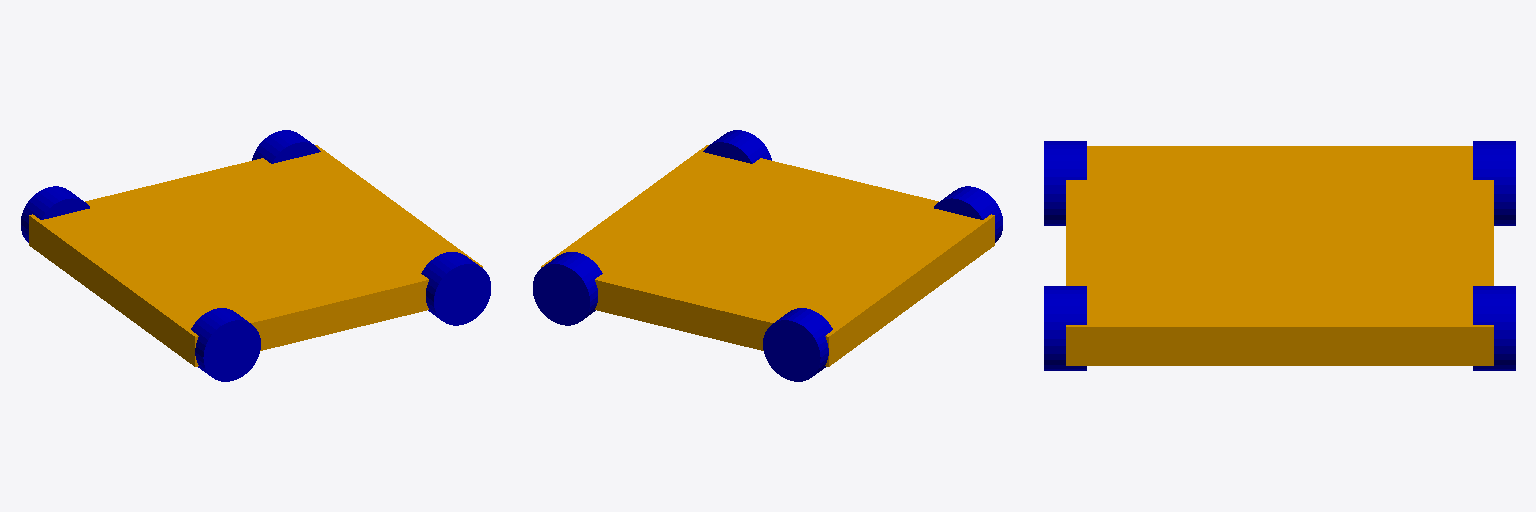
URDF robot description (basic_robot):
<?xml version="1.0"?>
<robot name="basic_robot">
<!-- For the color  -->
  <material name ="blue">
    <color rgba=" 0 0 0.8 1"/>
  </material>
<!-- Looks like it needed to be named base_link -->
  <link name="base_link">
    <visual>
    <!-- take out the xyz here -->
    <!-- <origin rpy=" 0 0 0" xyz="0 0 0.1"/> -->
    <origin rpy=" 0 0 0" xyz="0 0 0.1"/>
      <geometry>
        <!-- l x w x h -->
         <box size="1.0 1.0 0.1"/>
      </geometry>
    </visual>
  </link>

  <link name="right_front_wheel">
    <visual>
    <!-- rpy looks like orientation of the object -->
      <!-- taking out the location below -->
      <!-- <origin rpy=" 1.57075 0 0" xyz="0 0 0.1 "/> -->
      <origin rpy=" 1.57075 0 0"/>
      <geometry>
        <cylinder length="0.1" radius="0.1"/>
      </geometry>
      <material name="blue"/>
    </visual>
  </link>

  <joint name="right_front_wheel_joint" type="continuous">
    <parent link="base_link" />
    <child link="right_front_wheel" />
    <!-- axis on which it will move -->
    <axis xyz="0 1 0"/>
    <!-- may need to replace the xyz here -->
    <!-- <origin rpy="0 0 0" xyz="0.40 0.5 0.0"/> -->
    <origin rpy="0 0 0 " xyz="0.40 0.5 0.1 "/>"
  </joint>

   <link name="left_front_wheel">
    <visual>
    <!-- rpy looks like orientation -->
    <!-- taking out the xyz here -->
      <origin rpy=" 1.57075 0 0"/>
      <geometry>
        <cylinder length="0.1" radius="0.1"/>
      </geometry>
      <material name="blue"/>
    </visual>
  </link>

  <joint name="left_front_wheel_joint" type="continuous">
    <parent link="base_link" />
    <child link="left_front_wheel" />
    <!-- axis on which it will move -->
    <axis xyz="0 1 0"/>
    <!-- adding the xyz from the wheel  back here  -->
    <!-- <origin rpy="0 0 0" xyz="0.4 -0.5 0.0"/> -->
    <origin rpy="0 0 0" xyz="0.4 -0.5 0.1"/>
  </joint>


  <link name="right_back_wheel">
    <visual>
    <!-- rpy looks like orientation -->
    <!-- take out the xyz here  -->
      <origin rpy=" 1.57075 0 0" />
      <geometry>
        <cylinder length="0.1" radius="0.1"/>
      </geometry>
      <material name="blue"/>
    </visual>
  </link>

  <joint name="right_back_wheel_joint" type="continuous">
    <parent link="base_link" />
    <child link="right_back_wheel" />
    <!-- axis on which it will move -->
    <axis xyz="0 1 0"/>
    <!-- add the xyz from wheel back here -->
    <!-- <origin rpy="0 0 0" xyz="-0.4 0.5 0.0"/> -->
    <origin rpy="0 0 0" xyz="-0.4 0.5 0.1"/>
  </joint>

   <link name="left_back_wheel">
    <visual>
    <!-- rpy looks like orientation -->
    <!-- take out xyz here xyz here -->
      <origin rpy=" 1.57075 0 0"/>
      <geometry>
        <cylinder length="0.1" radius="0.1"/>
      </geometry>
      <material name="blue"/>
    </visual>
  </link>

  <joint name="left_back_wheel_joint" type="continuous">
    <parent link="base_link" />
    <child link="left_back_wheel" />
    <!-- axis on which it will move -->
    <axis xyz="0 1 0"/>
    <!-- add xyz from wheel here  -->
    <!-- <origin rpy="0 0 0" xyz="-0.4 -0.5 0.0"/> -->
    <origin rpy="0 0 0" xyz="-0.4 -0.5 0.1"/>
  </joint>
</robot>

--- Render facts (derived) ---
The picture shows the robot from 3 angles, left to right: view 1: azimuth 30°, elevation 25°; view 2: azimuth 150°, elevation 25°; view 3: azimuth 270°, elevation 25°; orthographic projection.
Robot: basic_robot — 5 links, 4 joints (4 continuous); root link base_link; default pose: every joint at zero.
Visible links, largest first — view 1: base_link, left_back_wheel, left_front_wheel, right_back_wheel, right_front_wheel; view 2: base_link, right_back_wheel, right_front_wheel, left_back_wheel, left_front_wheel; view 3: base_link, right_front_wheel, left_front_wheel, right_back_wheel, left_back_wheel.
Boxes of the visible links, <box> form: base_link: <box>29,145,482,366</box>; left_back_wheel: <box>191,308,260,381</box>; left_front_wheel: <box>421,252,490,325</box>; right_back_wheel: <box>21,186,89,242</box>; right_front_wheel: <box>252,130,320,163</box>; base_link: <box>541,145,994,366</box>; right_back_wheel: <box>763,308,832,381</box>; right_front_wheel: <box>533,252,602,325</box>; left_back_wheel: <box>934,186,1002,242</box>; left_front_wheel: <box>703,130,771,163</box>; base_link: <box>1066,146,1493,365</box>; right_front_wheel: <box>1473,286,1515,370</box>; left_front_wheel: <box>1044,286,1086,370</box>; right_back_wheel: <box>1473,141,1515,225</box>; left_back_wheel: <box>1044,141,1086,225</box>.
Size in the robot's own frame: 1 by 1.1 by 0.2 metres.
Geometry: primitives only (box / cylinder / sphere), no mesh files.